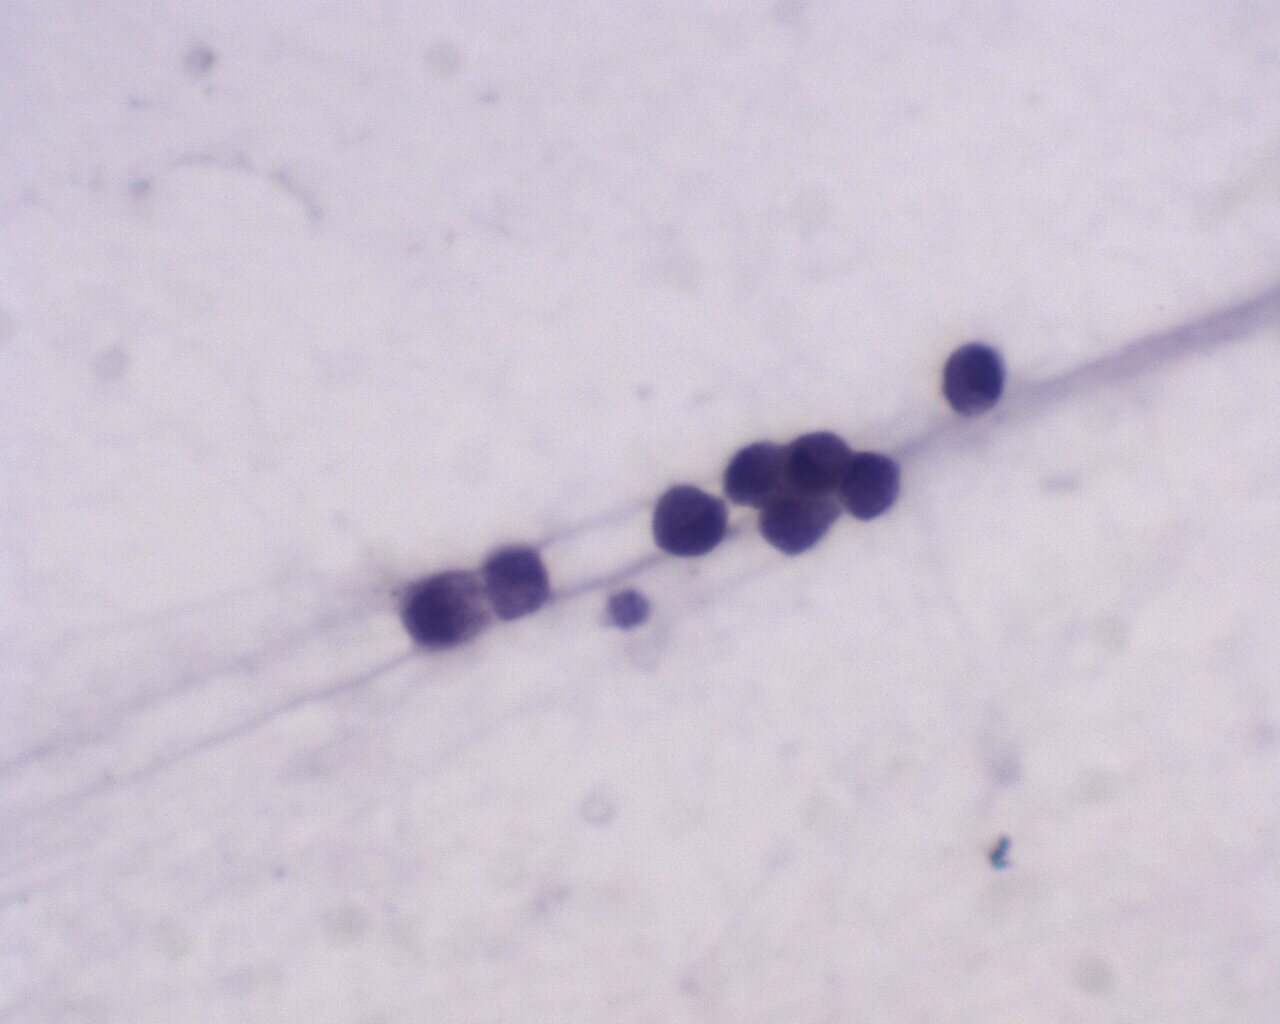ab: (647, 478, 730, 562), (936, 338, 1016, 420), (763, 490, 848, 559), (838, 453, 909, 526), (724, 442, 799, 509)
